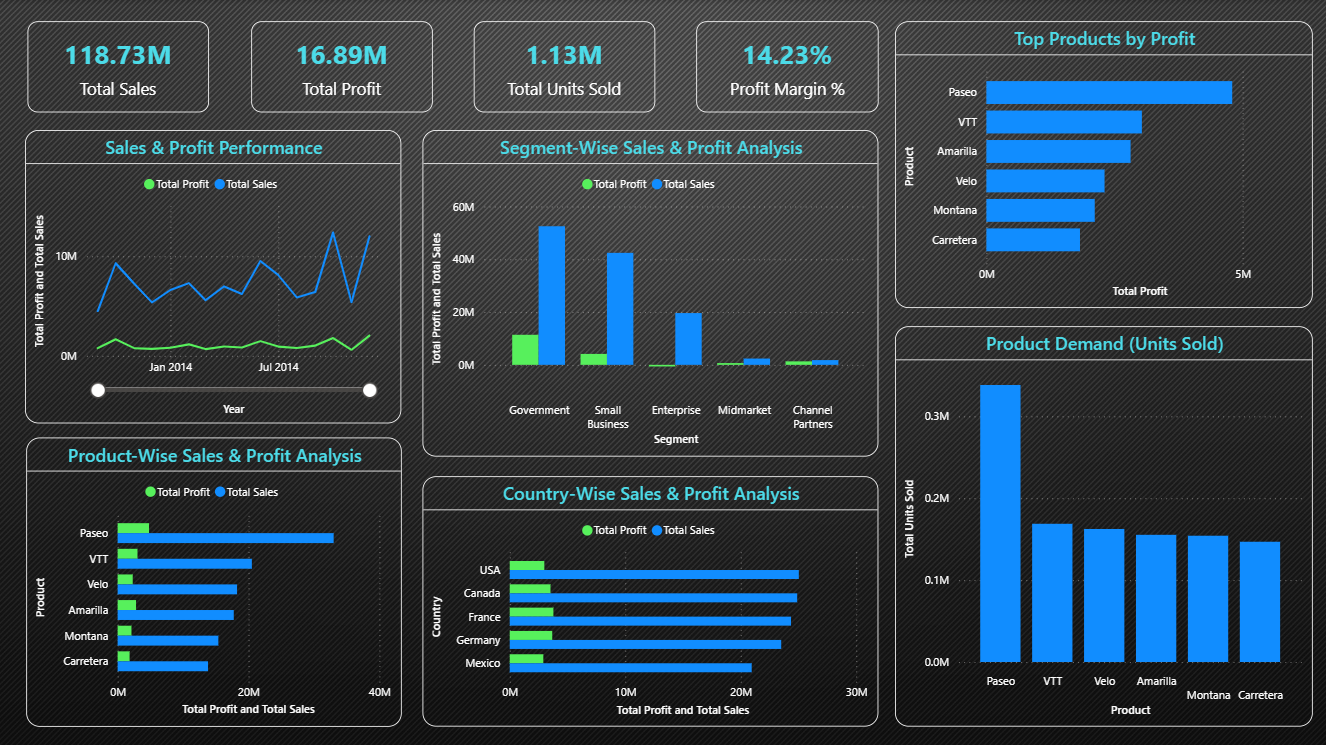

This screenshot's page, from the dashboard's own definition file:
{"tool":"powerbi","page":{"name":"Executive Overview","canvas":[1280,720],"ordinal":0},"visuals":[{"type":"card","fields":{"Values":["Measures_.Total Sales"]},"box":[26,20,175,88.1],"z":0,"group":"g1"},{"type":"lineChart","title":"Sales & Profit Performance","fields":{"Category":["Financials.Start of Month.Variation.Date Hierarchy.Year","Financials.Start of Month.Variation.Date Hierarchy.Month"],"Y":["Measures_.Total Profit","Measures_.Total Sales"]},"box":[24.3,125.7,362.9,282.9],"z":0},{"type":"card","fields":{"Values":["Measures_.Total Profit"]},"box":[241.4,20,174.9,87.7],"z":1000,"group":"g1"},{"type":"clusteredBarChart","title":"Country-Wise Sales & Profit Analysis","fields":{"Category":["Financials.Country"],"Y":["Measures_.Total Profit","Measures_.Total Sales"]},"box":[408.3,460,440,241.7],"z":1000},{"type":"card","fields":{"Values":["Measures_.Total Units Sold"]},"box":[456.7,20,174.9,87.7],"z":2000,"group":"g1"},{"type":"clusteredBarChart","title":"Product-Wise Sales & Profit Analysis","fields":{"Category":["Financials.Product"],"Y":["Measures_.Total Profit","Measures_.Total Sales"]},"box":[25.2,422.3,362.2,278.9],"z":2000},{"type":"card","fields":{"Values":["Measures_.Profit Margin %"]},"box":[672,20,176,88],"z":3000,"group":"g1"},{"type":"clusteredColumnChart","title":"Segment-Wise Sales & Profit Analysis","fields":{"Category":["Financials.Segment"],"Y":["Measures_.Total Profit","Measures_.Total Sales"]},"box":[408.3,125,440,315],"z":3000},{"type":"barChart","title":"Top Products by Profit","fields":{"Category":["Financials.Product"],"Y":["Measures_.Total Profit"]},"box":[863.3,20,403.3,276.7],"z":4000},{"type":"columnChart","title":"Product Demand (Units Sold)","fields":{"Category":["Financials.Product"],"Y":["Measures_.Total Units Sold"]},"box":[863.3,315,403.3,386.7],"z":5000},{"type":"group","id":"g1","title":"Group 1","box":[26,20,822,88.1],"z":6000}]}

Visuals, with their boxes in screenshot pixels (x1, y1, x2, y2), scaled from the page's 1280x720 canvas onto the 1326x745 screenshot:
card - Measures_.Total Sales: pyautogui.locateOnScreen(27, 21, 208, 112)
"Sales & Profit Performance" lineChart: pyautogui.locateOnScreen(25, 130, 401, 423)
card - Measures_.Total Profit: pyautogui.locateOnScreen(250, 21, 431, 111)
"Country-Wise Sales & Profit Analysis" clusteredBarChart: pyautogui.locateOnScreen(423, 476, 879, 726)
card - Measures_.Total Units Sold: pyautogui.locateOnScreen(473, 21, 654, 111)
"Product-Wise Sales & Profit Analysis" clusteredBarChart: pyautogui.locateOnScreen(26, 437, 401, 726)
card - Measures_.Profit Margin %: pyautogui.locateOnScreen(696, 21, 878, 112)
"Segment-Wise Sales & Profit Analysis" clusteredColumnChart: pyautogui.locateOnScreen(423, 129, 879, 455)
"Top Products by Profit" barChart: pyautogui.locateOnScreen(894, 21, 1312, 307)
"Product Demand (Units Sold)" columnChart: pyautogui.locateOnScreen(894, 326, 1312, 726)
"Group 1" group: pyautogui.locateOnScreen(27, 21, 878, 112)
